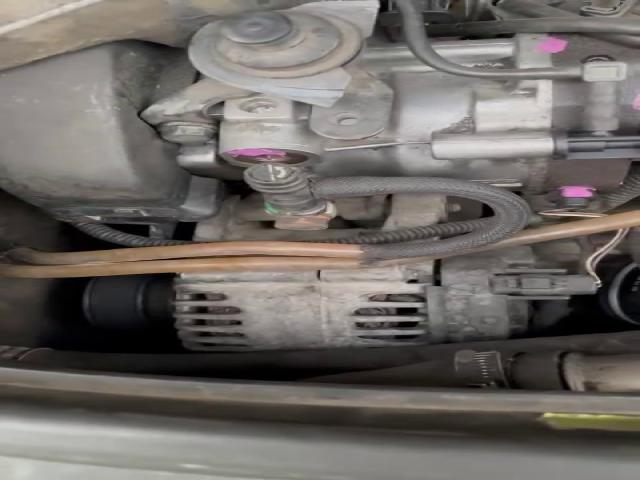alternator: (172, 235, 603, 354)
high_pressure_pump: (210, 29, 640, 208)
